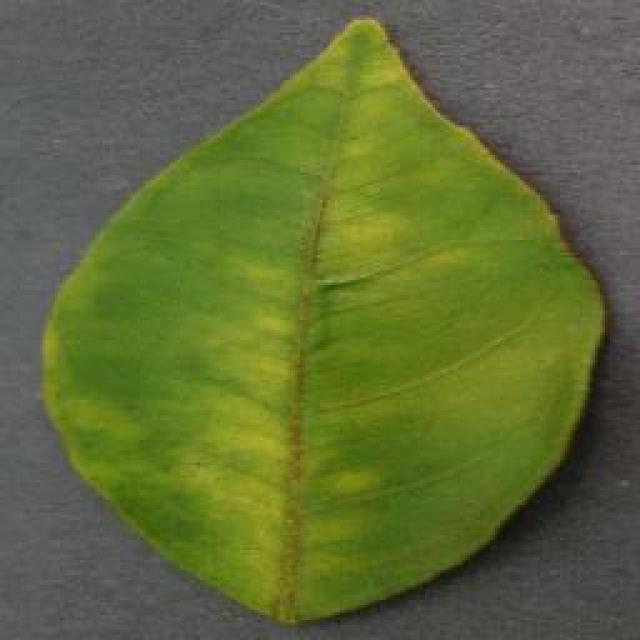Orange_Haunglongbing_Citrus_greening: (116, 62, 565, 484)
